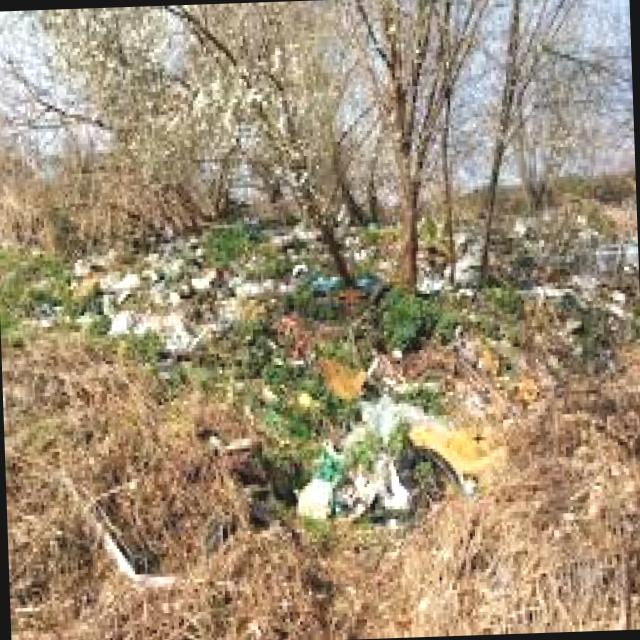garbage: (56, 159, 640, 532)
